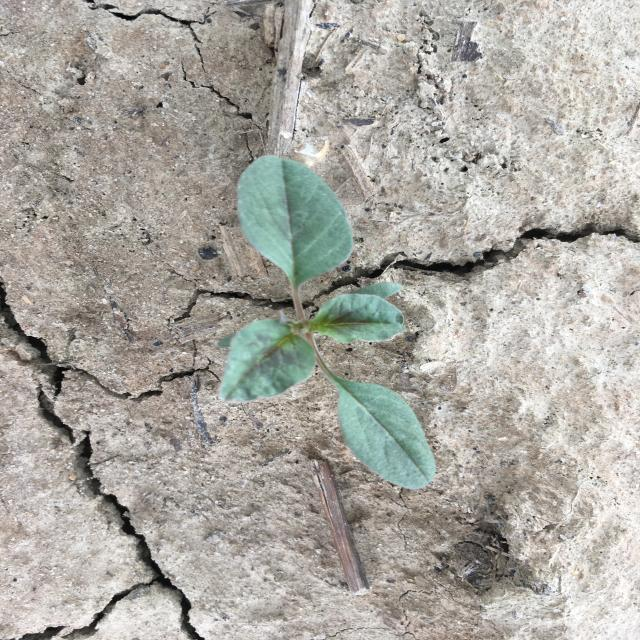PalmerAmaranth: (218, 155, 436, 490)
